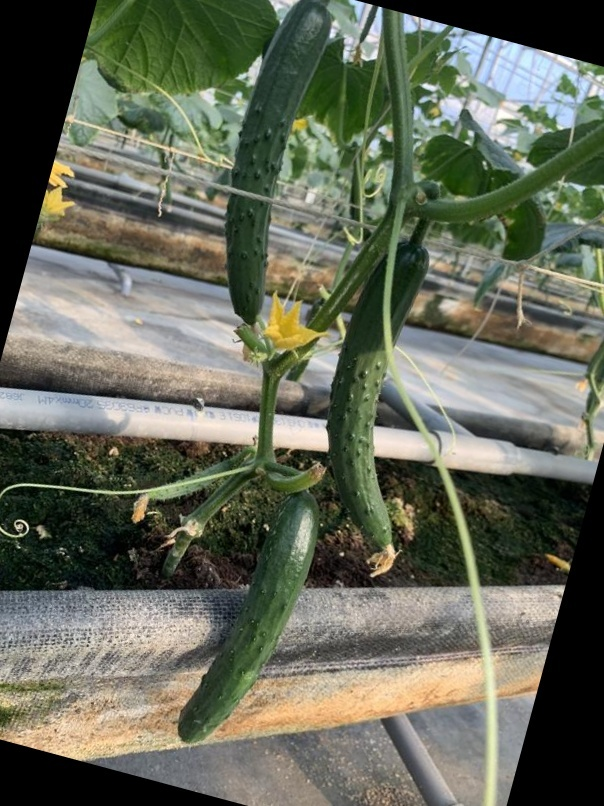mature: (217, 0, 333, 330), (177, 491, 323, 742), (322, 241, 436, 548)
